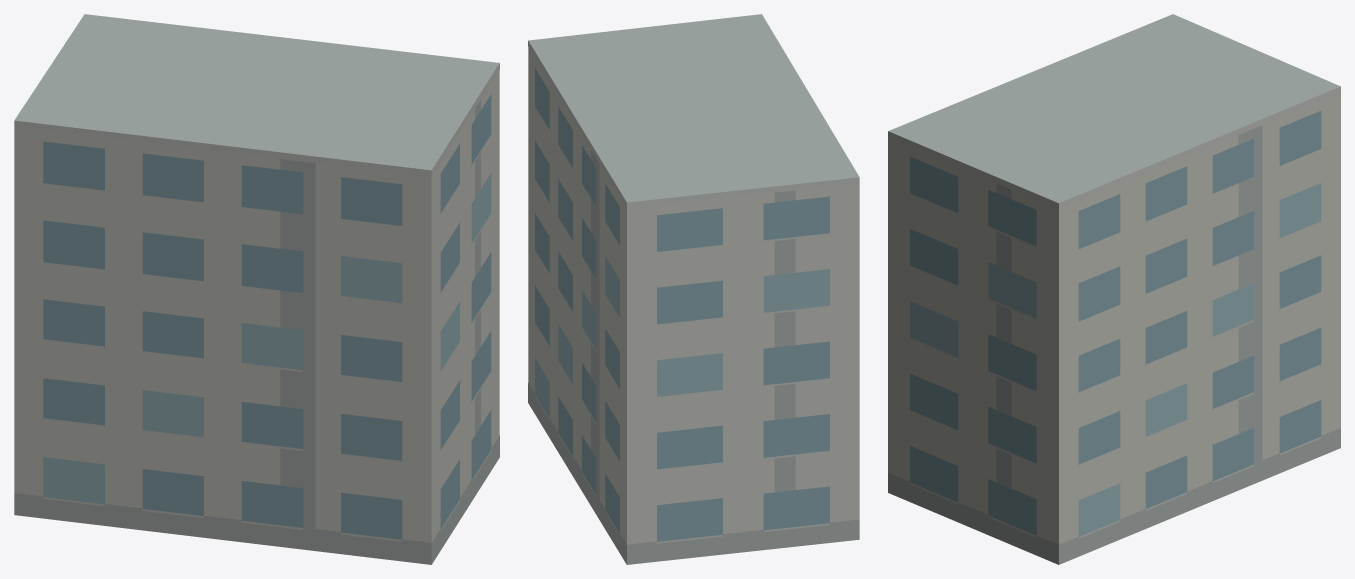
Rendered from survey-upis-32882482.glb.
3 views of the same model, side by side, from view 1: azimuth 30°, elevation 25°; view 2: azimuth 150°, elevation 25°; view 3: azimuth 270°, elevation 25° (orthographic). The views are drawn at different scales.
Visible parts, largest first — view 1: survey-upis-32882482.tmp; view 2: survey-upis-32882482.tmp; view 3: survey-upis-32882482.tmp.
Part boxes in pixels (x1=…): survey-upis-32882482.tmp: x1=14, y1=14, x2=499, y2=564; survey-upis-32882482.tmp: x1=528, y1=14, x2=859, y2=564; survey-upis-32882482.tmp: x1=888, y1=14, x2=1340, y2=564.
Size of the model in its own units: 15.95 by 14.2 by 16.12.
